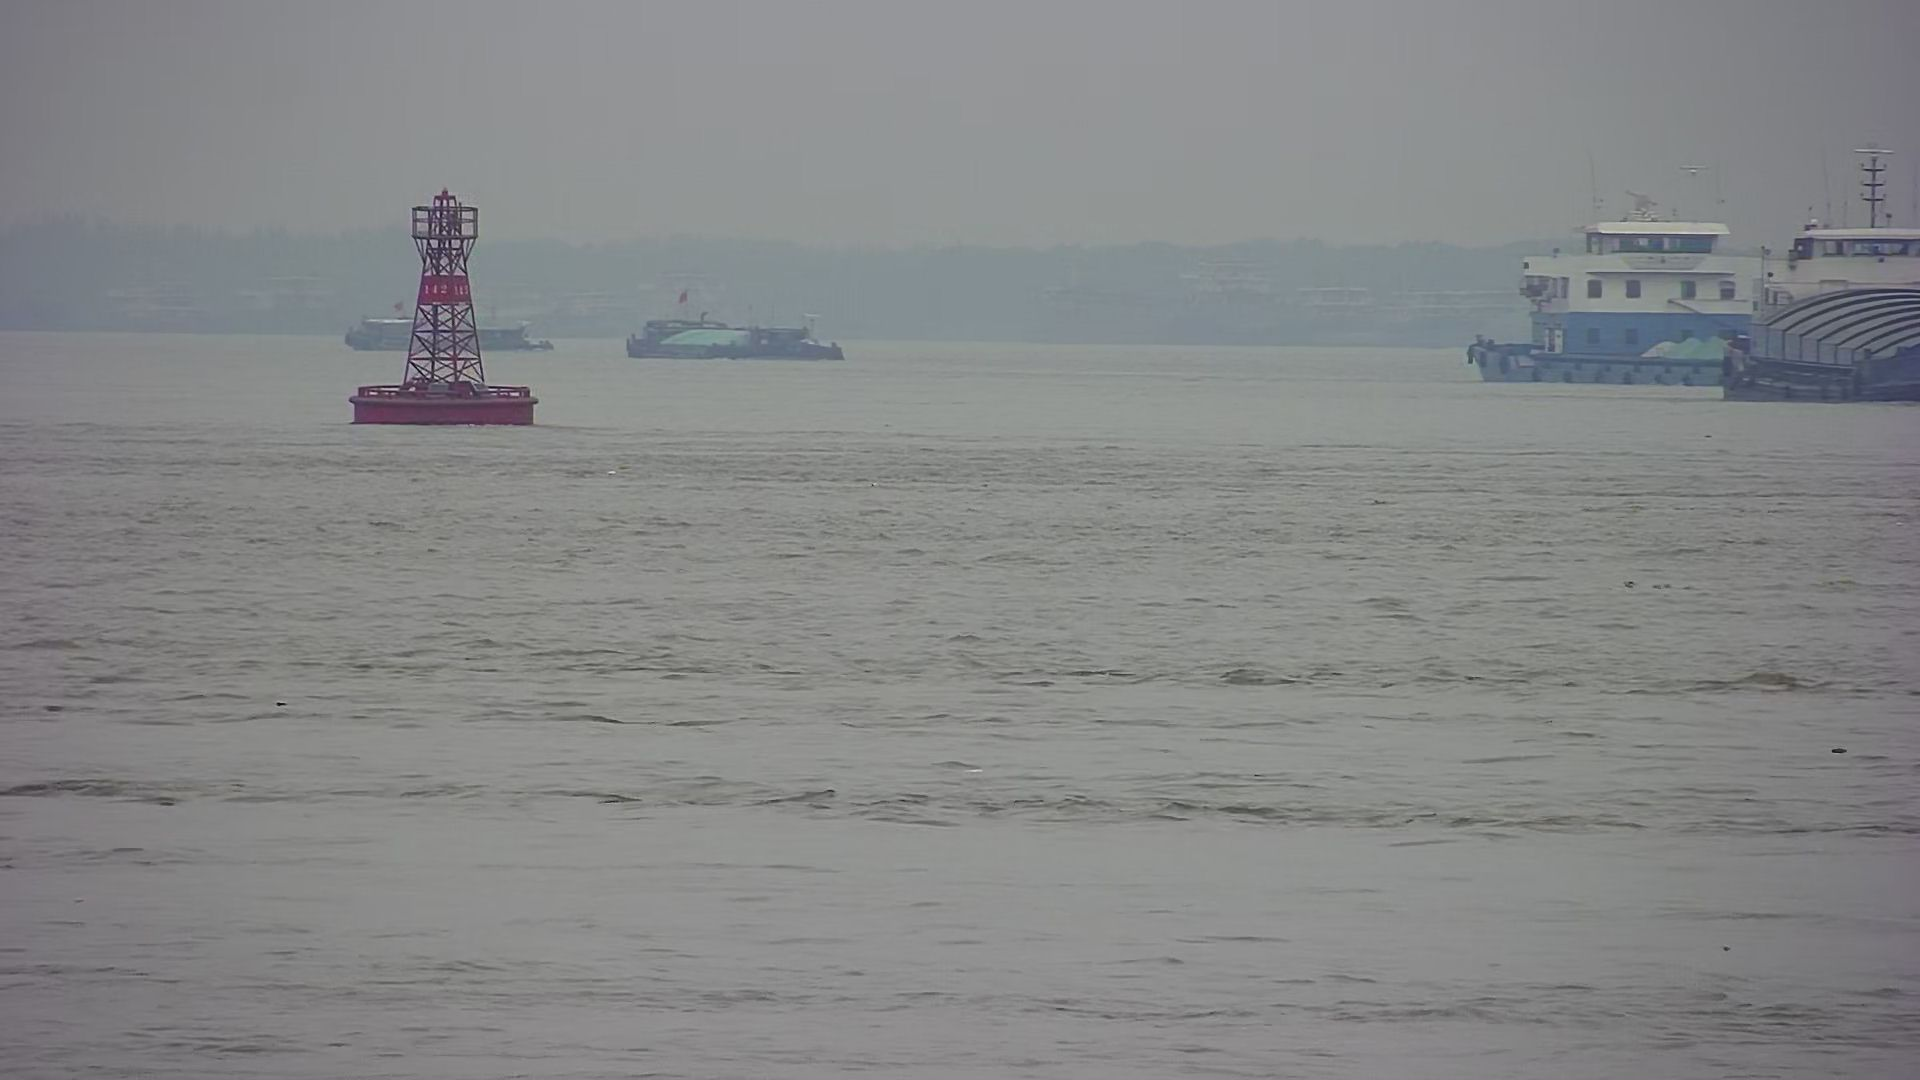platform: (352, 179, 535, 433)
ship: (1470, 193, 1753, 386), (1727, 156, 1915, 417), (618, 314, 851, 367), (339, 307, 554, 357)
